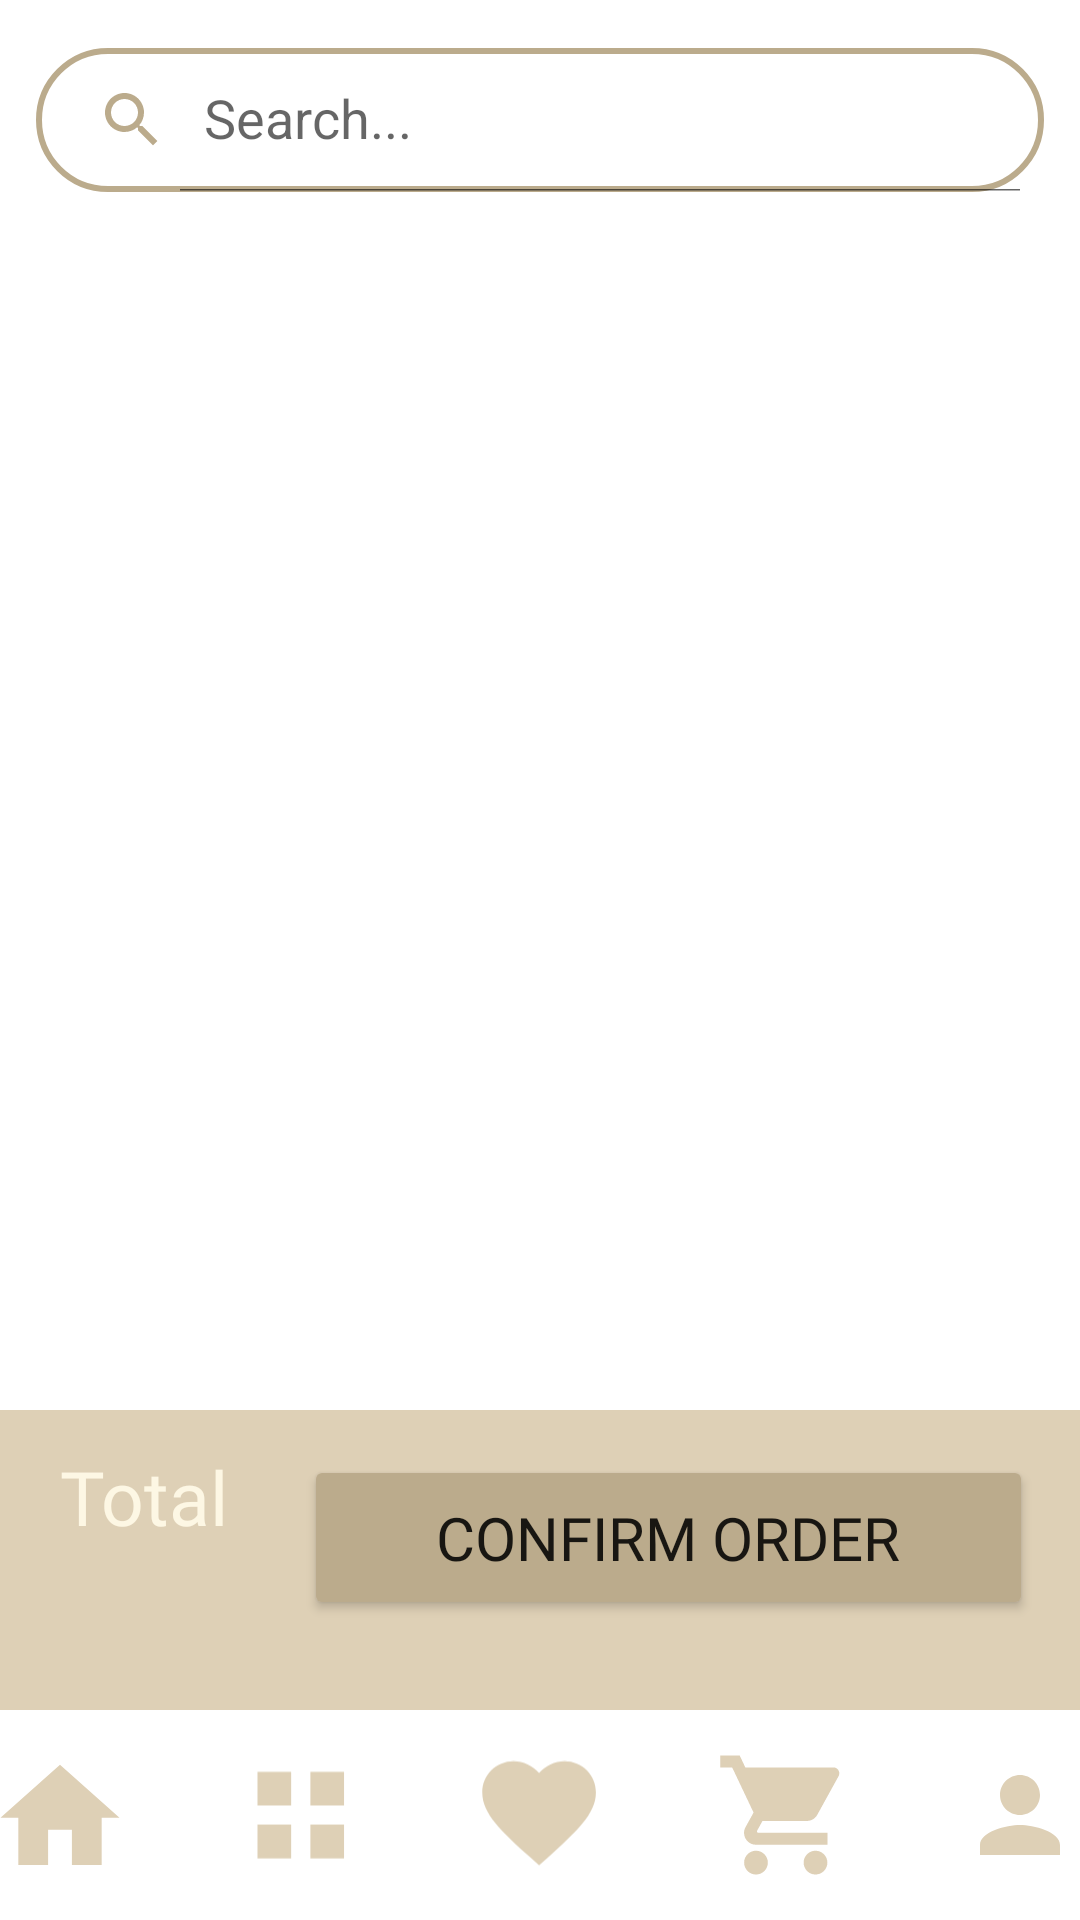

Where to tap for icons on this 1080w x 1920h app screen, as (x,y):
cart: (779,1815)
catalog: (300,1815)
heart: (539,1813)
home: (60,1815)
person: (1020,1815)
